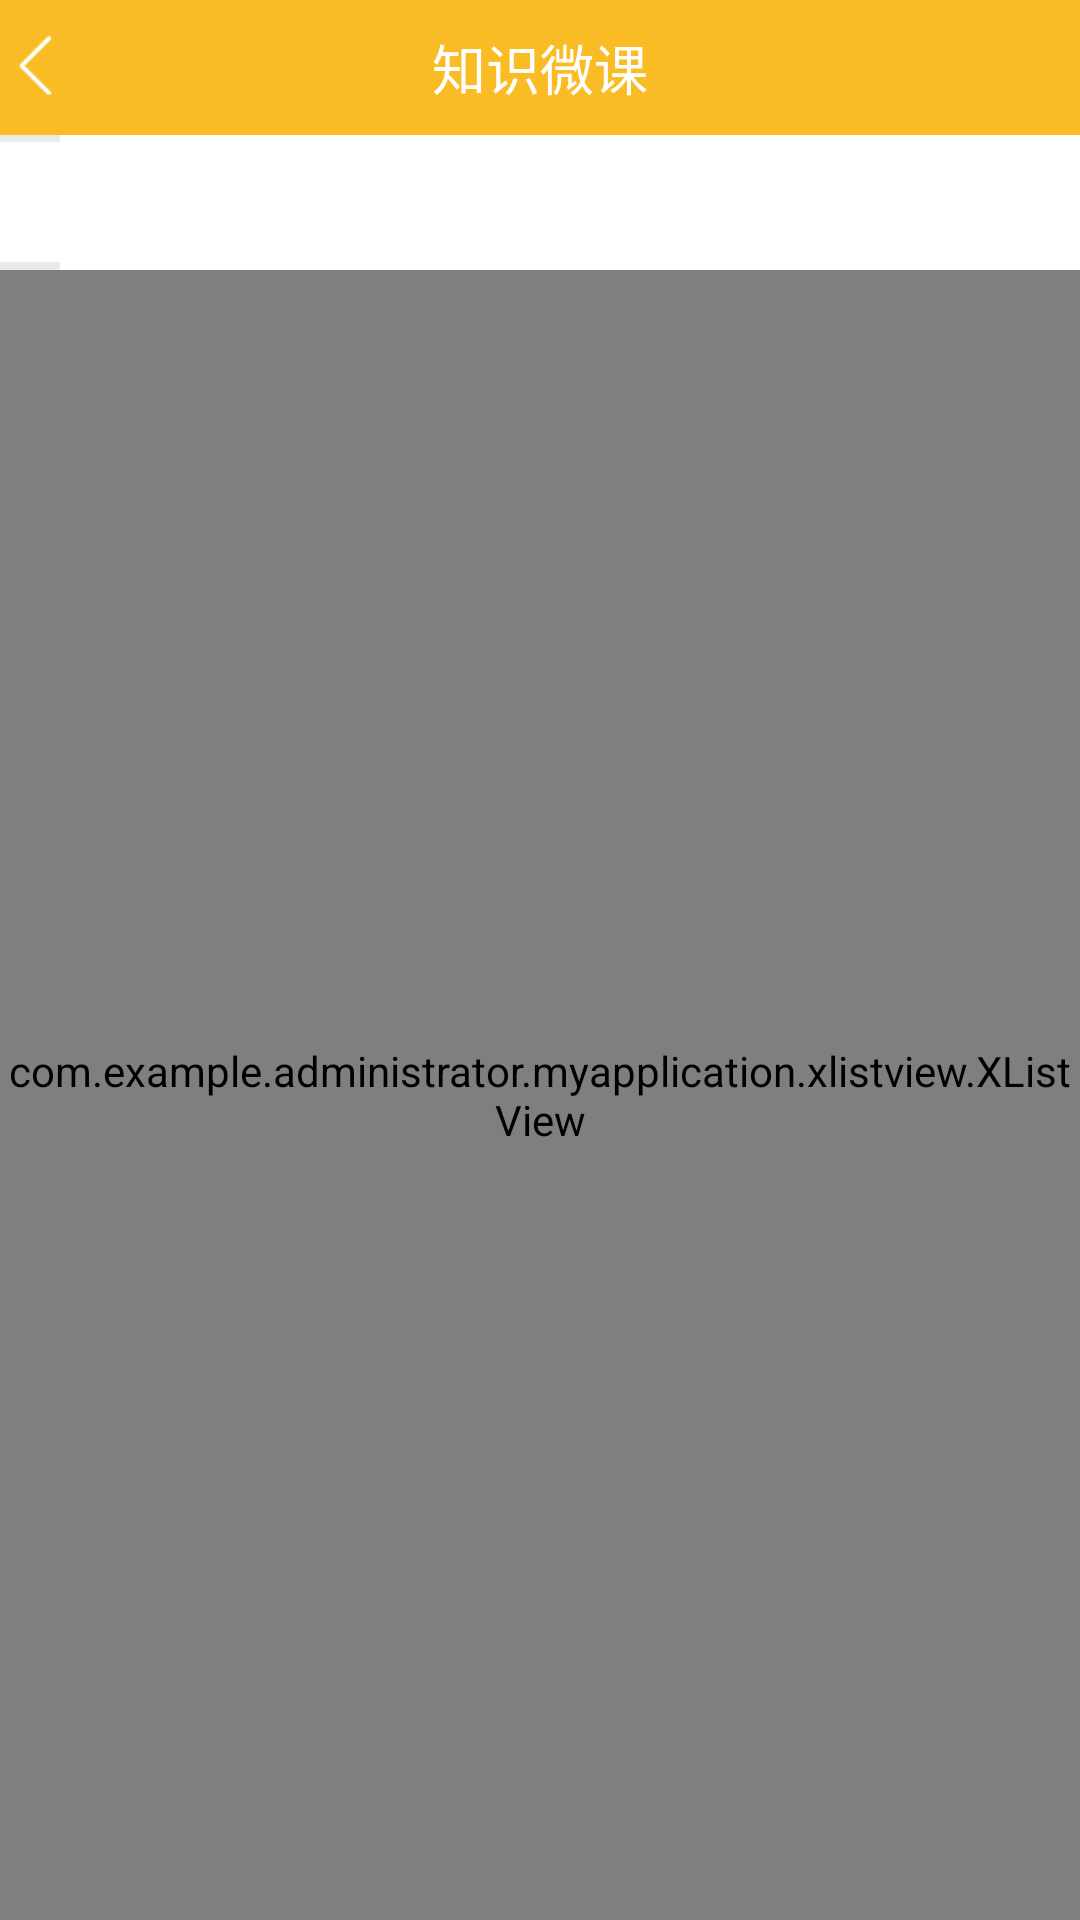

Icons on this 1080*1920 Android screen, each with the point to tap as (x=x, y=y):
back: (x=35, y=65)
